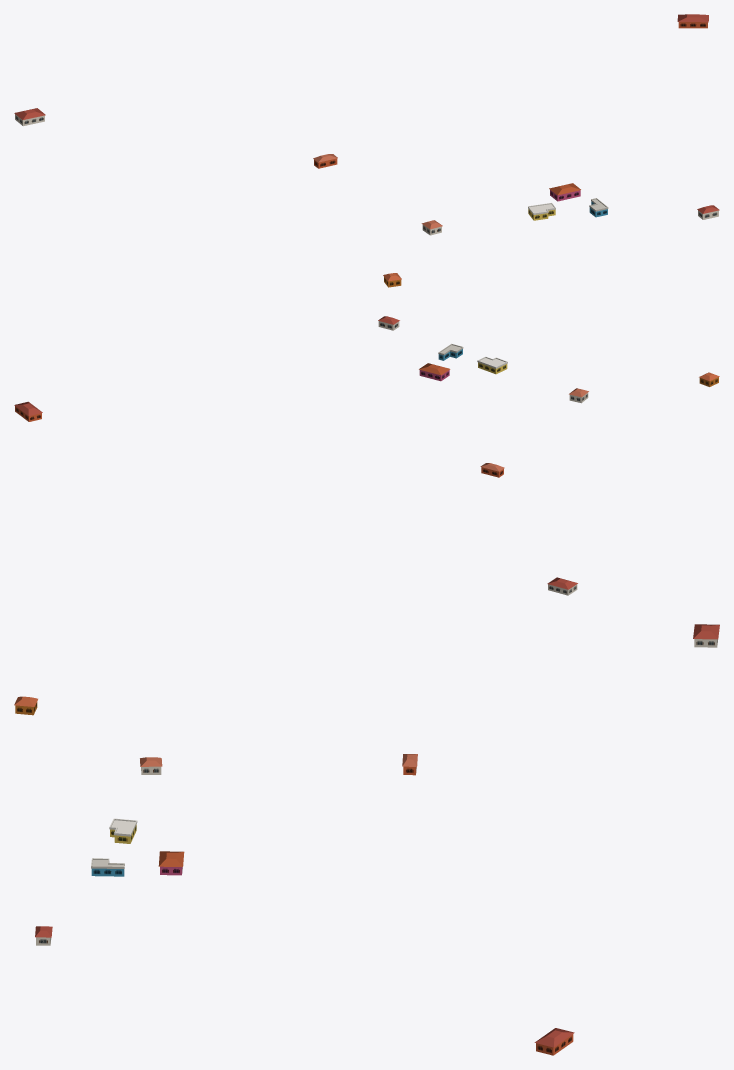
Rendered from msb_oranjestad_m10_m4.glb.
The picture shows the model from 3 angles, top to bottom: view 1: azimuth 30°, elevation 25°; view 2: azimuth 150°, elevation 25°; view 3: azimuth 270°, elevation 25°; orthographic projection. The views are drawn at different scales.
Visible parts, largest first — view 1: msb_oranjestad_m10_m4_lod0; view 2: msb_oranjestad_m10_m4_lod0; view 3: msb_oranjestad_m10_m4_lod0.
Boxes of the visible parts, <box> form: msb_oranjestad_m10_m4_lod0: <box>14,14,719,287</box>; msb_oranjestad_m10_m4_lod0: <box>14,316,719,595</box>; msb_oranjestad_m10_m4_lod0: <box>14,624,719,1055</box>.
Size of what is drawn, in the model's own units: 353 by 14.11 by 257.
3 materials, 1 textured.
